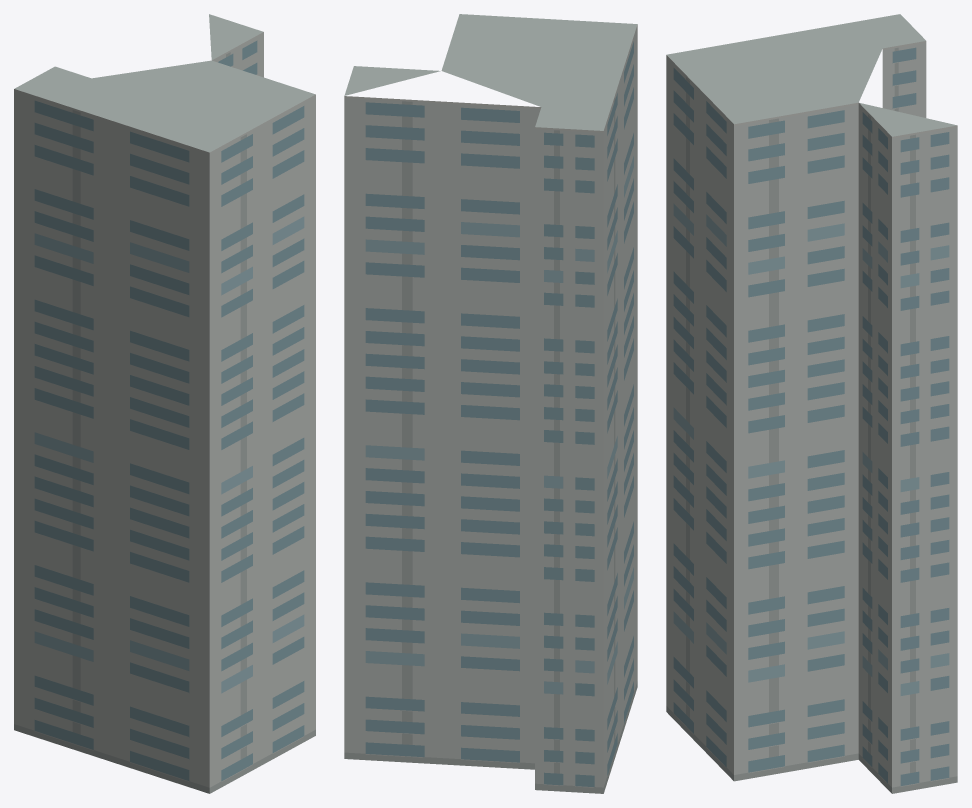
Rendered from residential-7c368048-d9c4-4461-90f3-9e94b3156580.glb.
3 views of the same model, side by side, from view 1: azimuth 30°, elevation 25°; view 2: azimuth 150°, elevation 25°; view 3: azimuth 270°, elevation 25° (orthographic). The views are drawn at different scales.
Visible parts, largest first — view 1: residential-7c368048-d9c4-4461-90f3-9e94b3156580.tmp; view 2: residential-7c368048-d9c4-4461-90f3-9e94b3156580.tmp; view 3: residential-7c368048-d9c4-4461-90f3-9e94b3156580.tmp.
Boxes of the visible parts, x1,y1,x2,y2 form: residential-7c368048-d9c4-4461-90f3-9e94b3156580.tmp: (14, 14, 315, 793); residential-7c368048-d9c4-4461-90f3-9e94b3156580.tmp: (344, 14, 637, 793); residential-7c368048-d9c4-4461-90f3-9e94b3156580.tmp: (666, 14, 957, 793).
Bounding box in the file's own units: 32.88 × 82 × 32.97.
